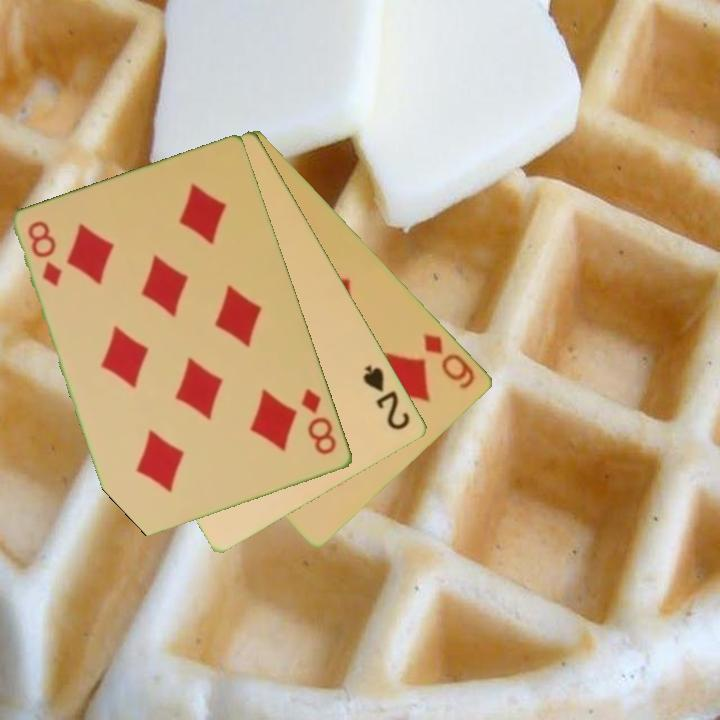2s: (359, 361, 414, 433)
6d: (420, 329, 479, 392)
8d: (298, 385, 340, 458), (24, 217, 66, 290)
